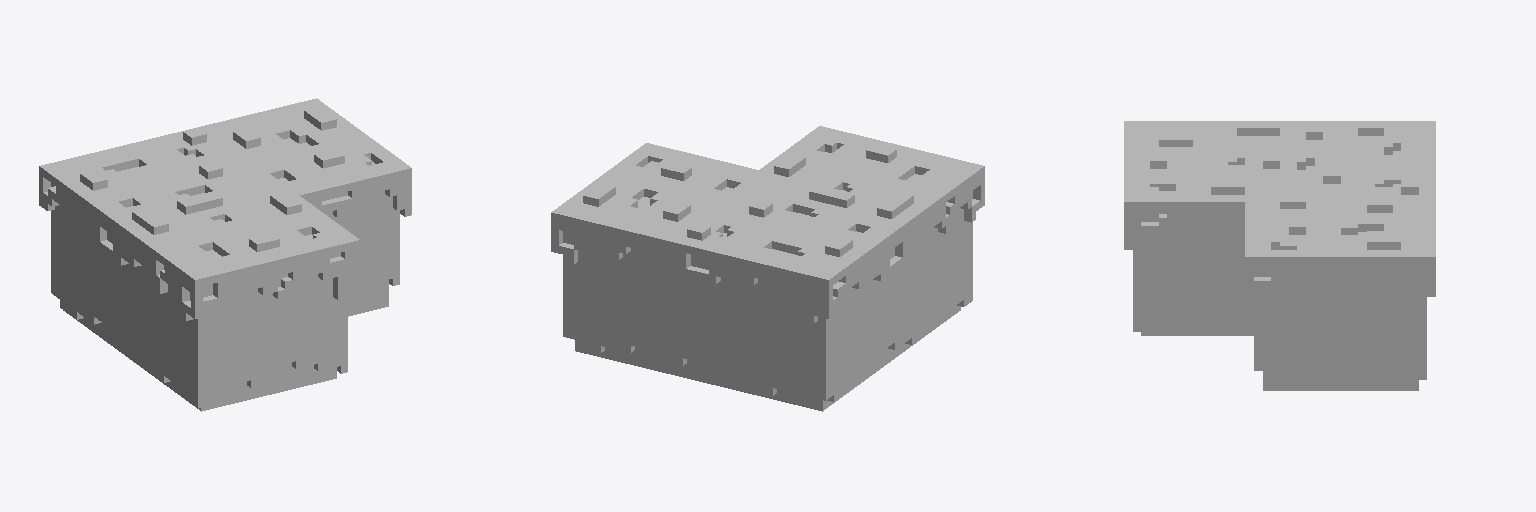
Rendered from boloto (2)-2.obj.
3 views of the same model, side by side, from view 1: azimuth 30°, elevation 25°; view 2: azimuth 150°, elevation 25°; view 3: azimuth 270°, elevation 25° (orthographic).
Visible parts, largest first — view 1: object 1; view 2: object 1; view 3: object 1.
Boxes of the visible parts, <box> form: object 1: <box>39,98,411,411</box>; object 1: <box>551,126,984,411</box>; object 1: <box>1124,121,1435,390</box>.
Bounding box in the file's own units: 3.7 × 1.9 × 3.6.